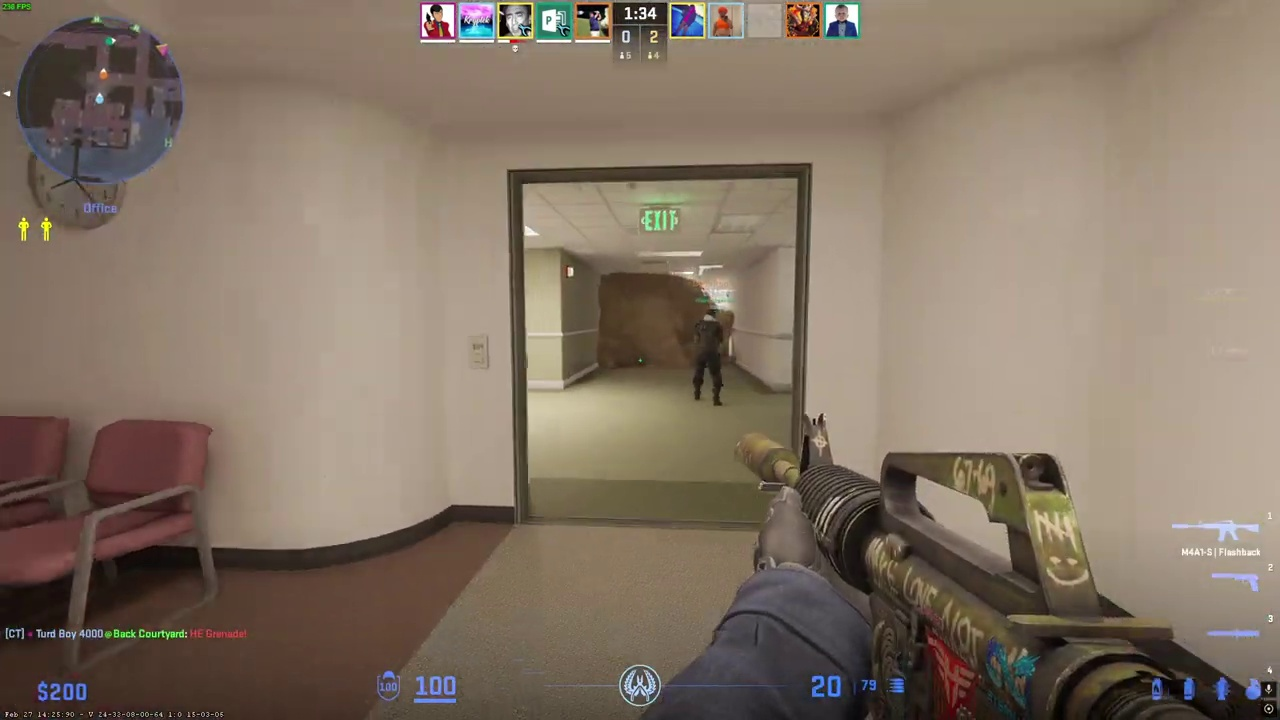CT: (693, 310, 724, 406)
